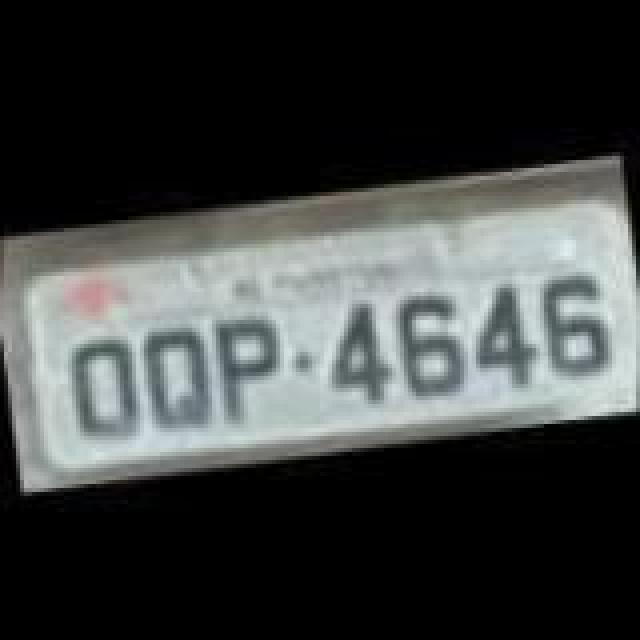4: (318, 294, 402, 414), (462, 276, 546, 392)
6: (528, 270, 616, 386), (390, 284, 474, 396)
O: (58, 326, 146, 442)
P: (206, 310, 290, 426)
Q: (132, 324, 216, 436)
